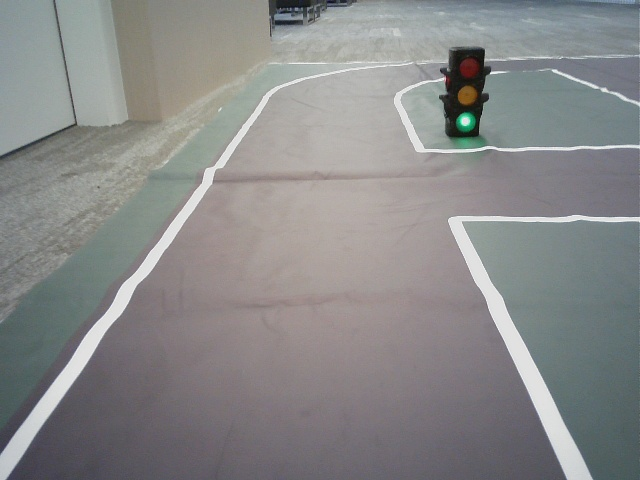green: (452, 51, 483, 134)
